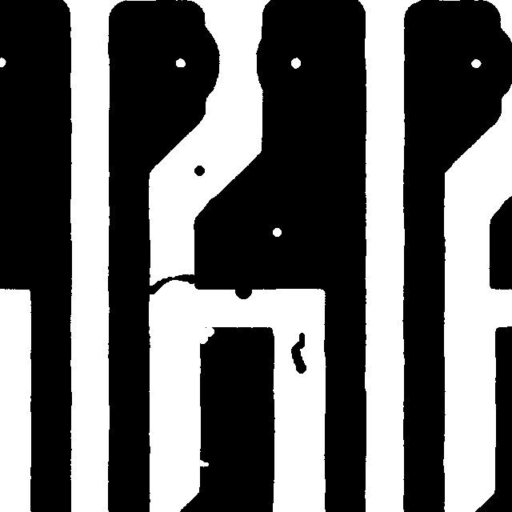copper: (283, 325, 314, 381), (186, 158, 212, 183)
mousebite: (189, 318, 222, 351), (190, 452, 216, 474)
pin-hole: (265, 220, 289, 244)
short: (135, 266, 203, 302)
spur: (227, 274, 259, 306)
